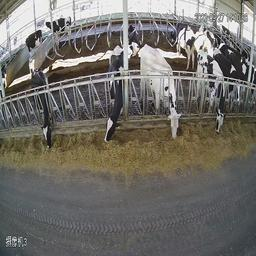cow: (140, 44, 181, 140), (197, 49, 226, 136), (104, 45, 124, 145), (214, 48, 244, 111), (29, 69, 51, 152), (168, 23, 194, 70), (44, 16, 71, 39), (26, 28, 42, 56), (128, 23, 139, 58), (219, 23, 233, 38)
